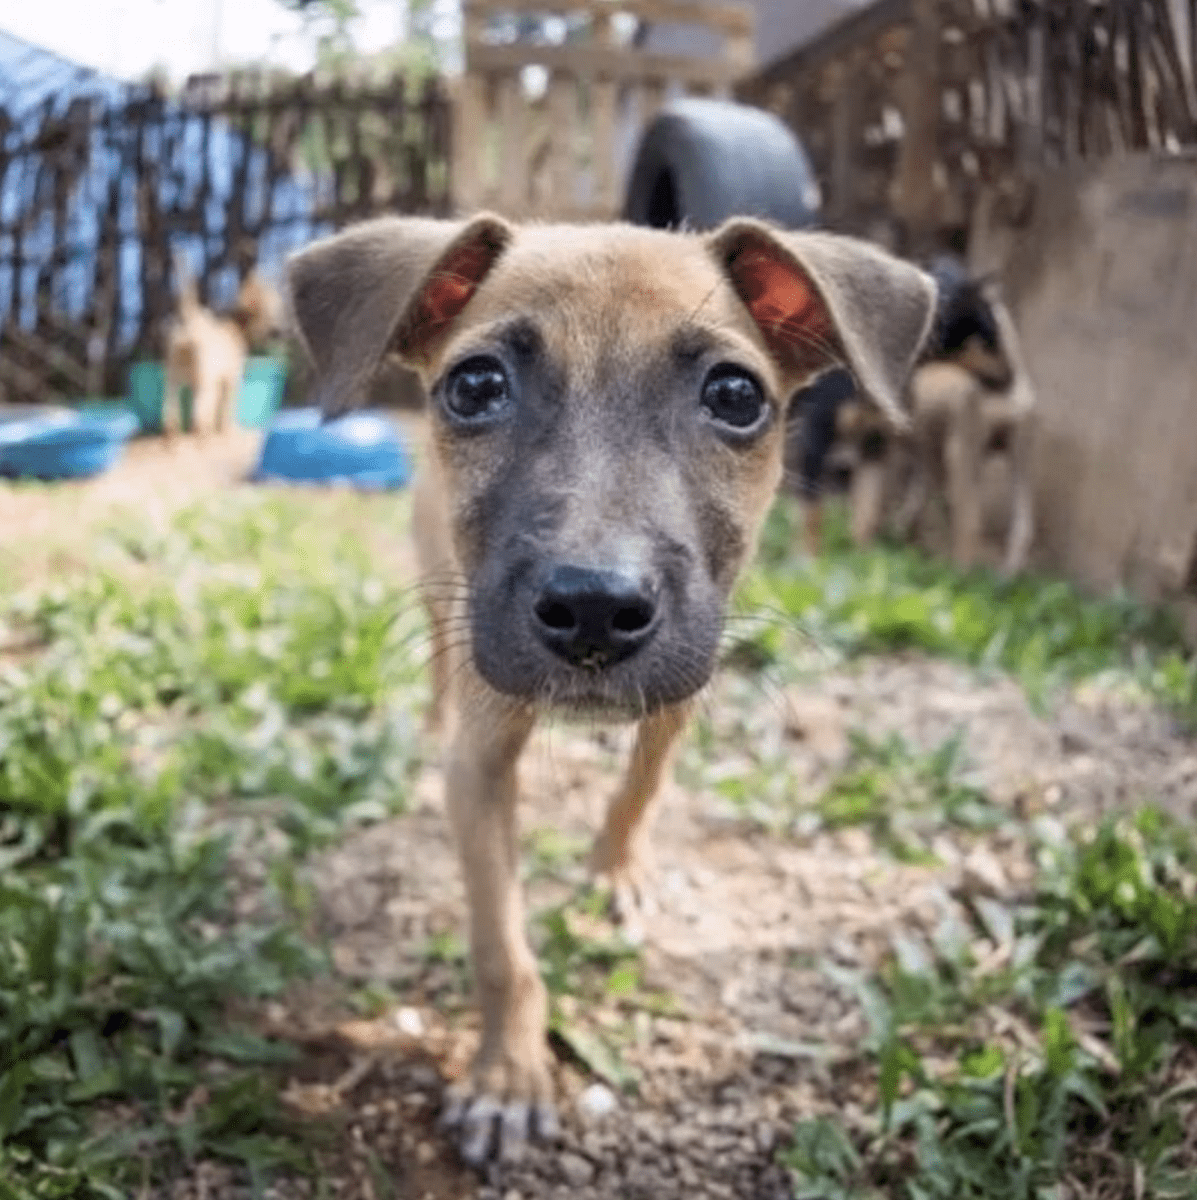Dog: (233, 149, 982, 1176)
